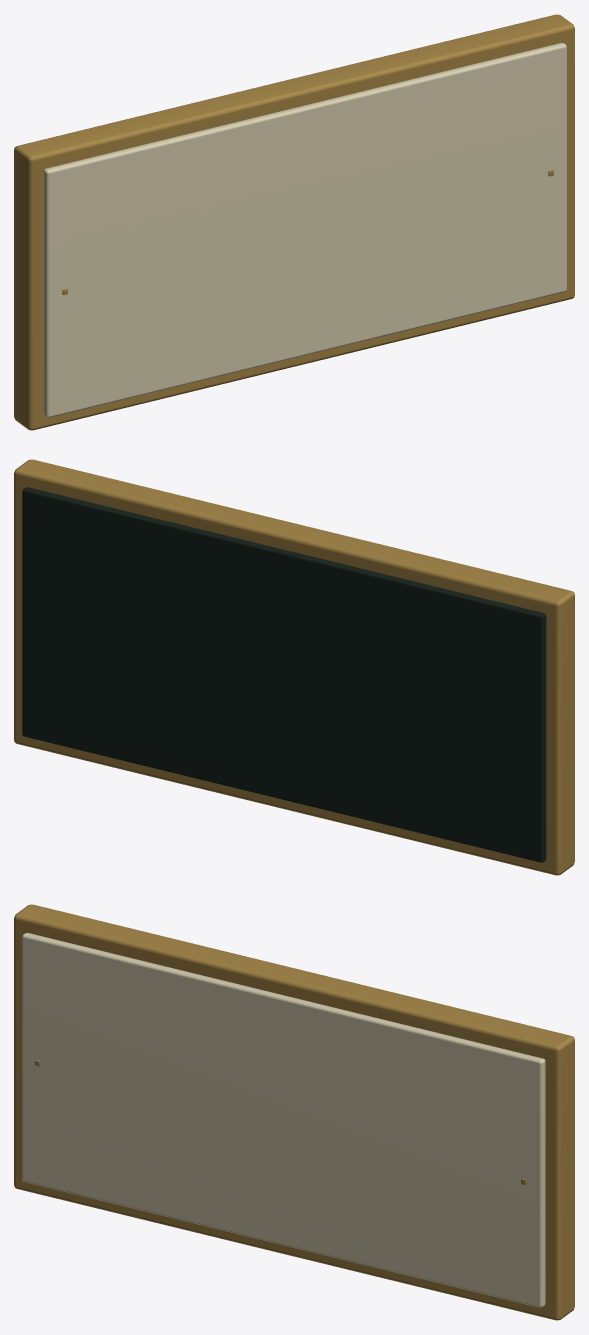
File: GJH_STF_008.glb
The picture shows the model from 3 angles, top to bottom: view 1: azimuth 30°, elevation 25°; view 2: azimuth 150°, elevation 25°; view 3: azimuth 330°, elevation 25°; orthographic projection.
Visible parts, largest first — view 1: GJH-STF-008_VISUAL; view 2: GJH-STF-008_VISUAL; view 3: GJH-STF-008_VISUAL.
Part boxes in pixels (x1,y1,x2,y2): GJH-STF-008_VISUAL: (14, 14, 574, 430); GJH-STF-008_VISUAL: (14, 459, 574, 875); GJH-STF-008_VISUAL: (14, 904, 574, 1320).
Bounding box in the file's own units: 2.52 × 1.21 × 0.213.
